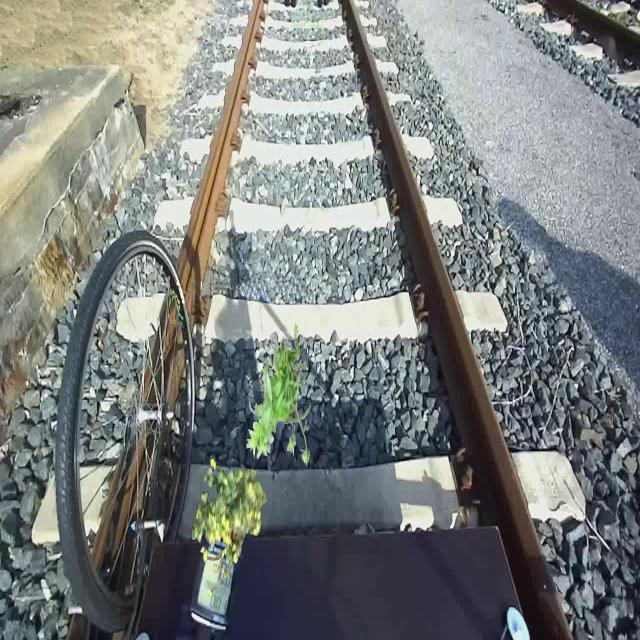Plant: (192, 458, 267, 598), (246, 323, 310, 466)
